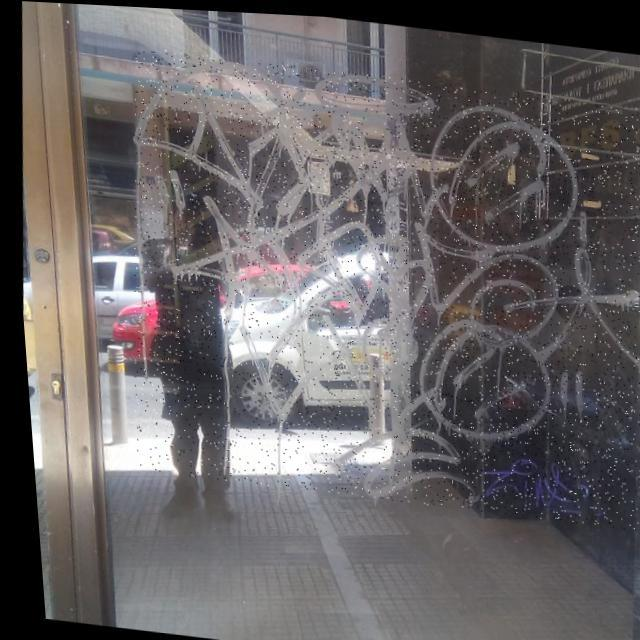-: (103, 43, 640, 525), (472, 446, 605, 514)
